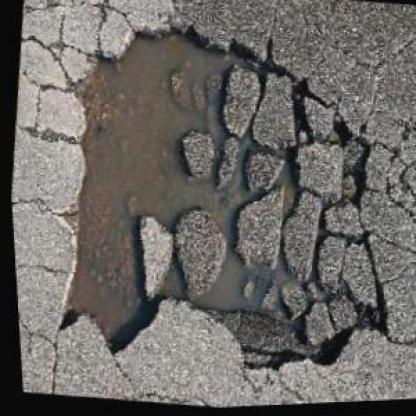pothole: (31, 0, 414, 402)
